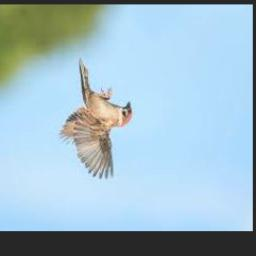Sparrow: (59, 58, 133, 179)
